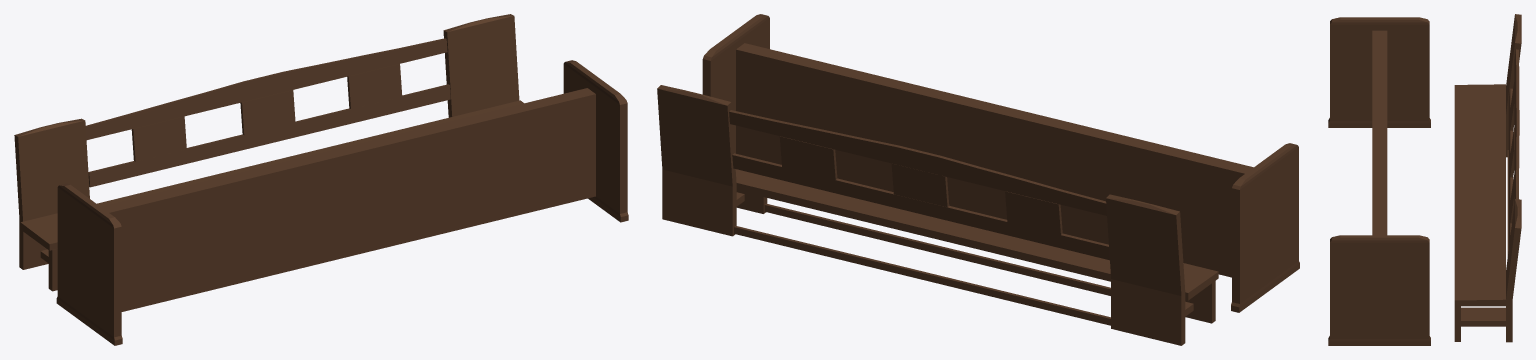
Rendered from Church_Pews.glb.
3 views of the same model, side by side, from view 1: azimuth 30°, elevation 25°; view 2: azimuth 150°, elevation 25°; view 3: azimuth 270°, elevation 25° (orthographic). The views are drawn at different scales.
Parts seen in each view (by area): view 1: Pew; view 2: Pew; view 3: Pew.
Boxes of the visible parts, x1,y1,x2,y2 form: Pew: (14,14,628,345); Pew: (657,14,1299,345); Pew: (1328,14,1521,345).
Size of the model in its own units: 10.51 by 2.57 by 3.87.
